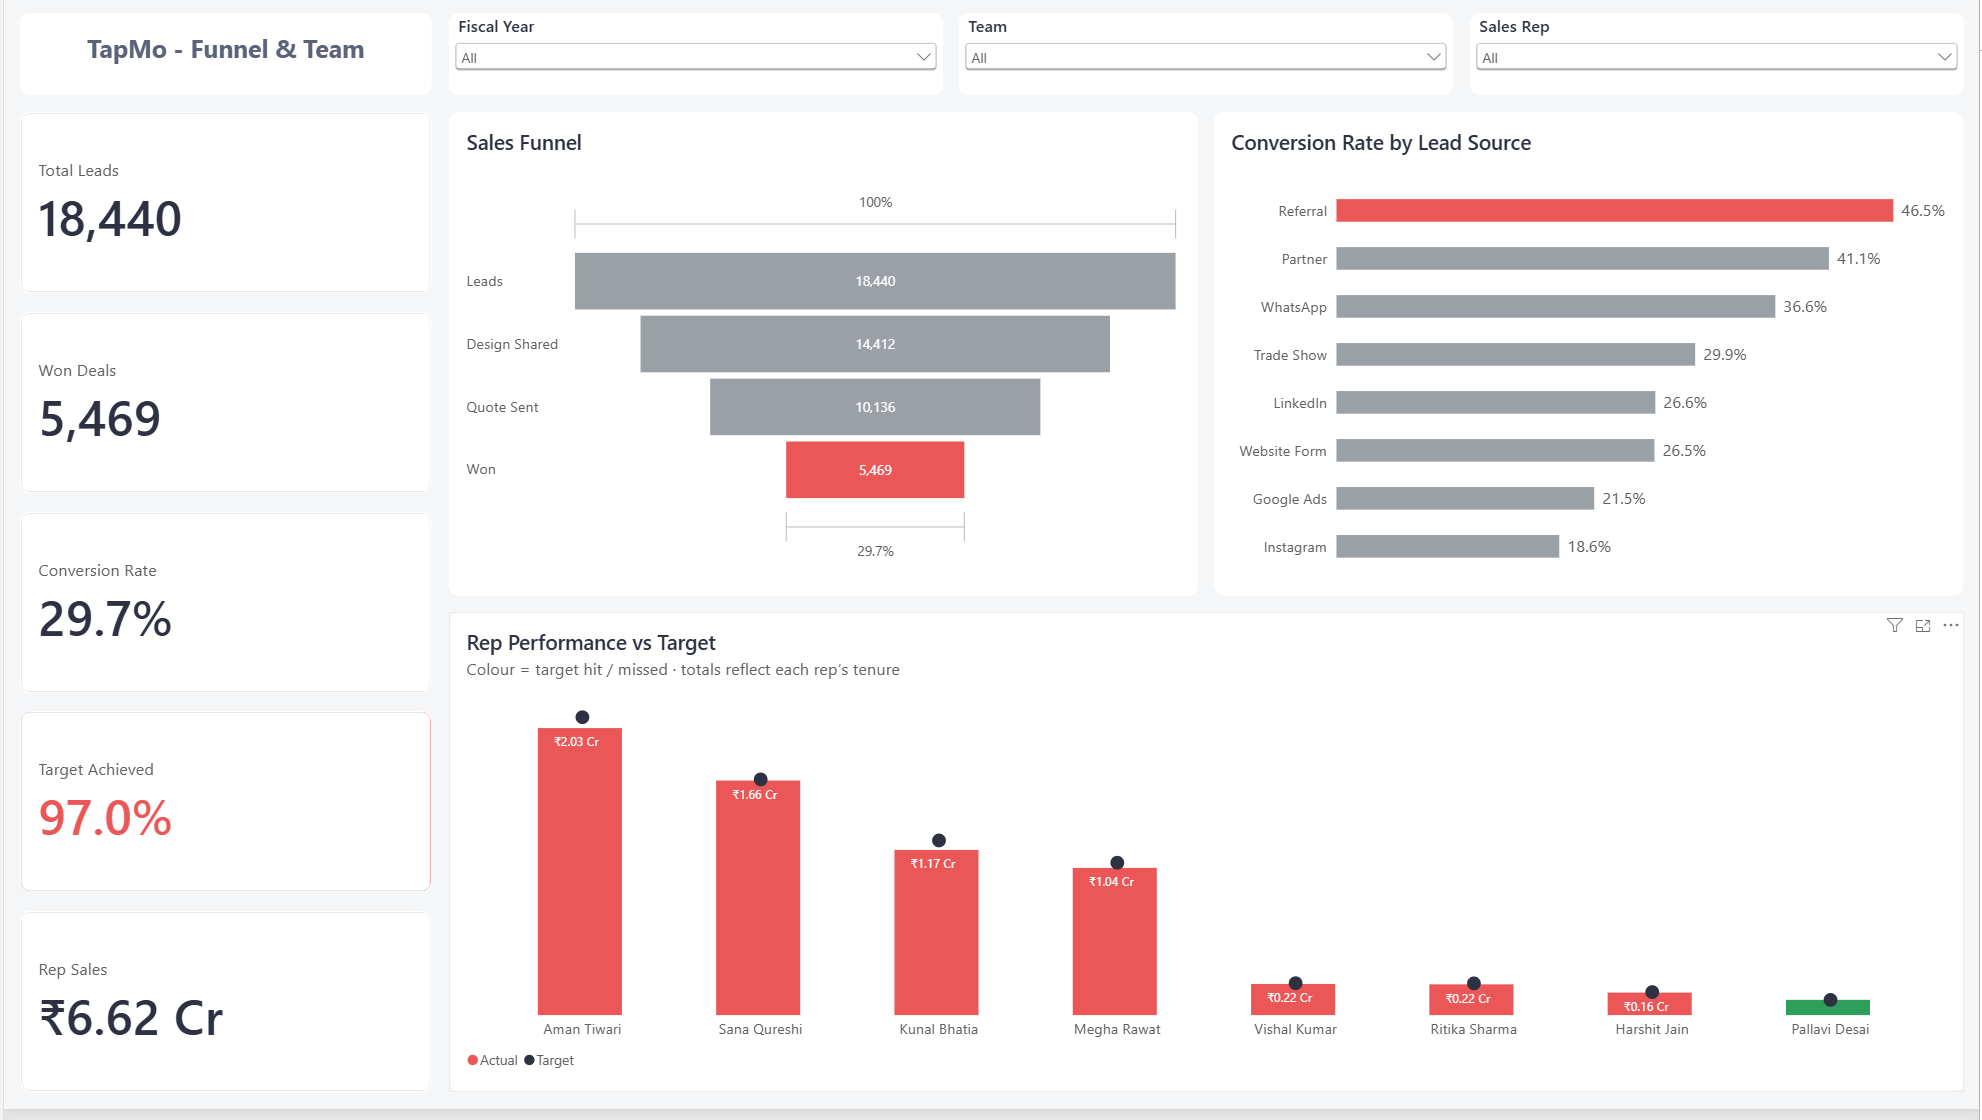

The dashboard page shown, as its layout file describes it:
{"tool":"powerbi","page":{"name":"Funnel & Team","canvas":[1920,1080],"ordinal":2},"visuals":[{"type":"textbox","box":[16,16,400,80],"z":0},{"type":"slicer","fields":{"Values":["tapmo dim_date.fiscal_year"]},"box":[432,16,480,80],"z":1000},{"type":"slicer","fields":{"Values":["tapmo dim_sales_rep.team"]},"box":[928,16,480,80],"z":2000},{"type":"slicer","fields":{"Values":["tapmo dim_sales_rep.rep_name"]},"box":[1424,16,480,80],"z":3000},{"type":"cardVisual","fields":{"Data":["_Measures.Leads (Card)"]},"box":[16,112,400,176],"z":4000},{"type":"cardVisual","fields":{"Data":["_Measures.Won (Card)"]},"box":[16,306,400,176],"z":5000},{"type":"cardVisual","fields":{"Data":["_Measures.Lead Conversion %"]},"box":[16,500,400,176],"z":6000},{"type":"cardVisual","fields":{"Data":["_Measures.Target Achievement %"]},"box":[16,694,400,176],"z":7000},{"type":"cardVisual","fields":{"Data":["_Measures.Rep Actual (Cr)"]},"box":[16,888,400,176],"z":8000},{"type":"funnel","title":"Sales Funnel","fields":{"Y":["_Measures.Total Leads","_Measures.Design Shared","_Measures.Quote Sent","_Measures.Won Deals"]},"box":[432,112,728,470],"z":8001},{"type":"clusteredBarChart","title":"Conversion Rate by Lead Source","fields":{"Category":["tapmo vw_lead_funnel.lead_source"],"Y":["_Measures.Lead Conversion %"]},"box":[1176,112,728,470],"z":8002},{"type":"lineClusteredColumnComboChart","title":"Rep Performance vs Target","fields":{"Category":["tapmo dim_sales_rep.rep_name"],"Y":["_Measures.Rep Actual (Cr)"],"Y2":["_Measures.Target (Cr)"]},"box":[432,598,1472,466],"z":8003}]}

Visuals, with their boxes in screenshot pixels (x1, y1, x2, y2), scaled from the page's 1920x1080 canvas onto the 1982x1120 screenshot:
textbox: 17/17/429/100
slicer - tapmo dim_date.fiscal_year: 446/17/941/100
slicer - tapmo dim_sales_rep.team: 958/17/1453/100
slicer - tapmo dim_sales_rep.rep_name: 1470/17/1965/100
cardVisual - _Measures.Leads (Card): 17/116/429/299
cardVisual - _Measures.Won (Card): 17/317/429/500
cardVisual - _Measures.Lead Conversion %: 17/519/429/701
cardVisual - _Measures.Target Achievement %: 17/720/429/902
cardVisual - _Measures.Rep Actual (Cr): 17/921/429/1103
"Sales Funnel" funnel: 446/116/1197/604
"Conversion Rate by Lead Source" clusteredBarChart: 1214/116/1965/604
"Rep Performance vs Target" lineClusteredColumnComboChart: 446/620/1965/1103
